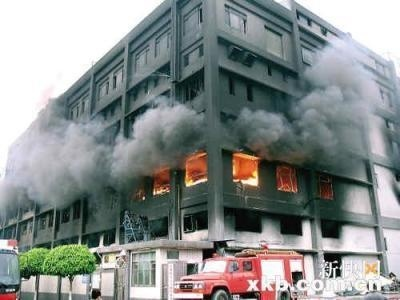fire: (231, 150, 260, 186), (184, 150, 209, 186), (276, 165, 297, 192), (152, 166, 172, 194)
